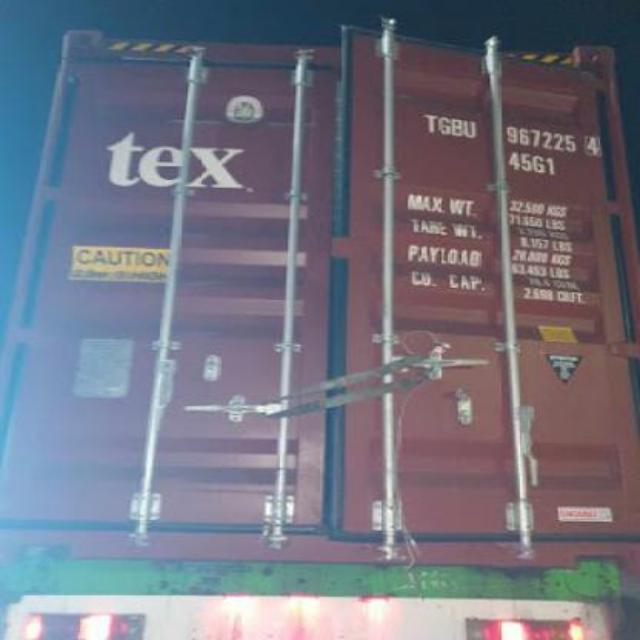2: (556, 124, 568, 154), (540, 126, 552, 152)
4: (586, 132, 604, 156)
5: (564, 128, 580, 156)
6: (520, 121, 530, 151)
7: (528, 121, 540, 153)
9: (504, 122, 518, 148)
B: (452, 113, 464, 143)
G: (440, 116, 452, 140)
T: (416, 100, 440, 144)
U: (462, 115, 478, 142)
